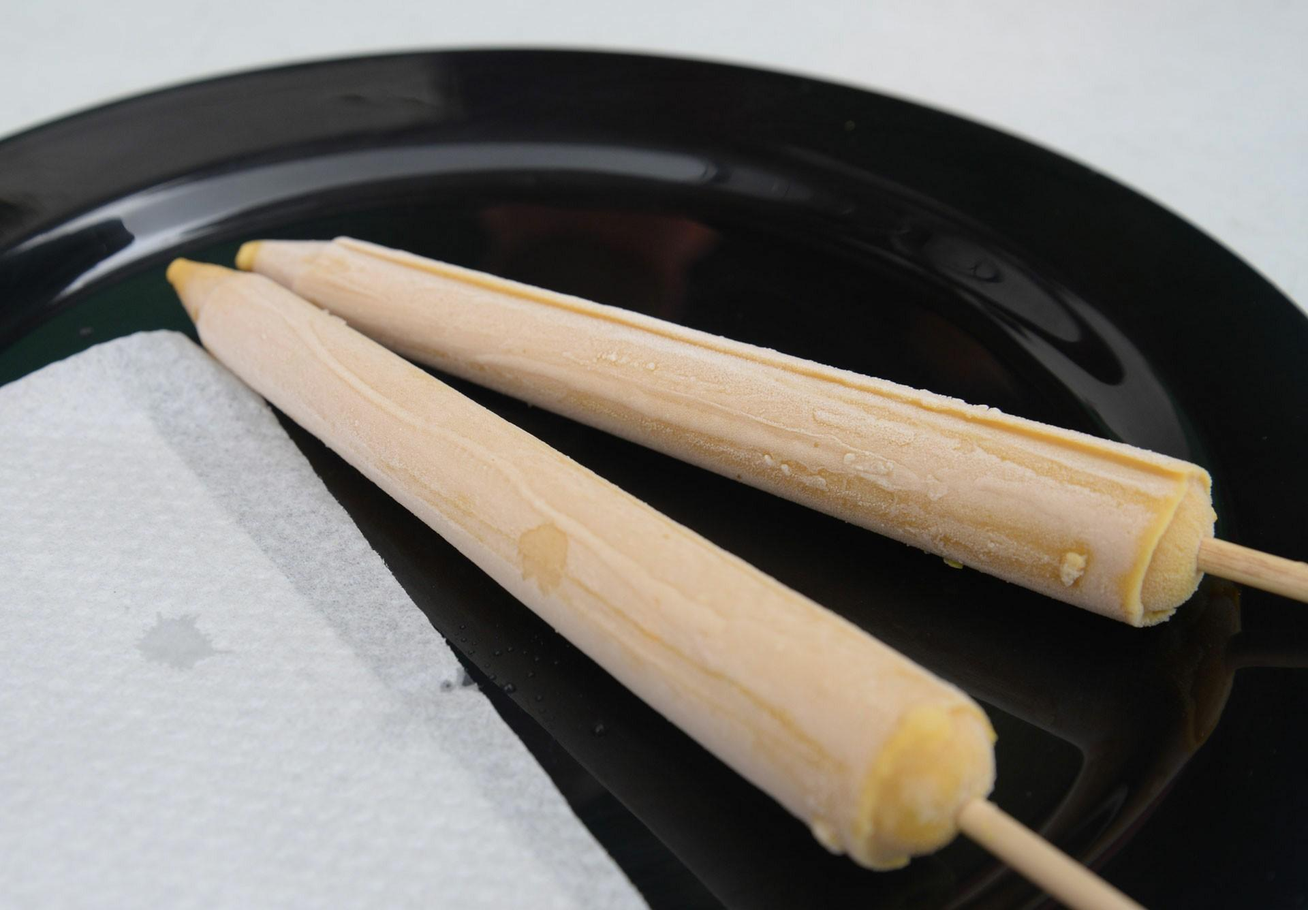Kulfi: (168, 256, 1000, 868), (239, 235, 1218, 626), (1210, 582, 1225, 593)
